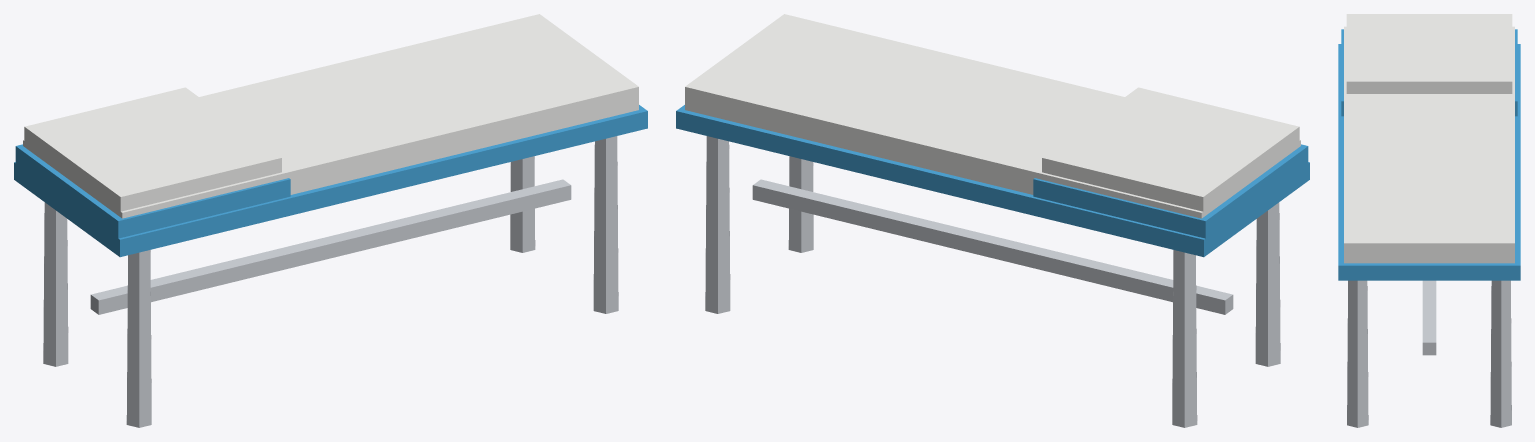
The model's file is velodrome-and-track-cycling-physio-bed-1428bbaa__38029.glb.
3 views of the same model, side by side, from view 1: azimuth 30°, elevation 25°; view 2: azimuth 150°, elevation 25°; view 3: azimuth 270°, elevation 25° (orthographic). The views are drawn at different scales.
Parts seen in each view (by area): view 1: physio-bed-chalk, physio-bed-steel, bed-head/chalk, physio-bed-azure, bed-head/azure; view 2: physio-bed-chalk, physio-bed-steel, bed-head/chalk, physio-bed-azure, bed-head/azure; view 3: physio-bed-chalk, bed-head/chalk, physio-bed-steel, physio-bed-azure, bed-head/azure.
Part boxes in pixels (x1,y1,x2,y2): physio-bed-chalk: (23,14,638,218); physio-bed-steel: (43,136,618,427); bed-head/chalk: (24,87,281,216); physio-bed-azure: (14,105,647,257); bed-head/azure: (15,144,290,238); physio-bed-chalk: (685,14,1300,218); physio-bed-steel: (705,136,1280,427); bed-head/chalk: (1042,87,1299,216); physio-bed-azure: (676,105,1309,257); bed-head/azure: (1033,144,1308,238); physio-bed-chalk: (1344,26,1514,263); bed-head/chalk: (1346,14,1512,93); physio-bed-steel: (1347,280,1511,427); physio-bed-azure: (1338,44,1520,280); bed-head/azure: (1341,29,1517,116).
Size of the model in its own units: 1.9 by 0.81 by 0.6599.
